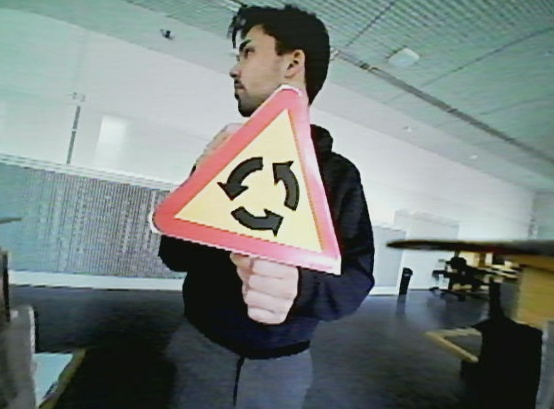roundabout_warning: (148, 78, 360, 278)
